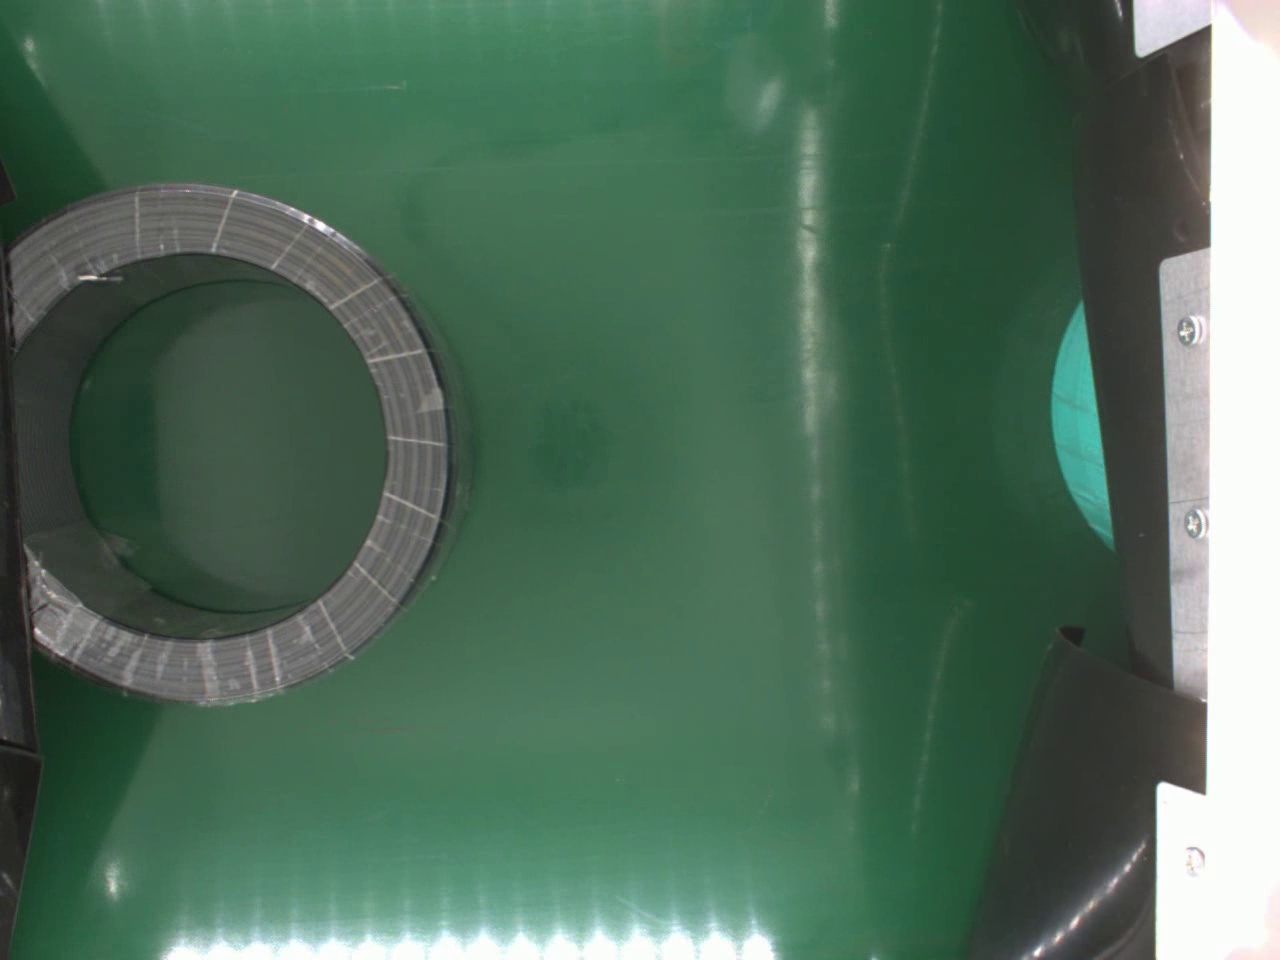black: (0, 177, 466, 712)
